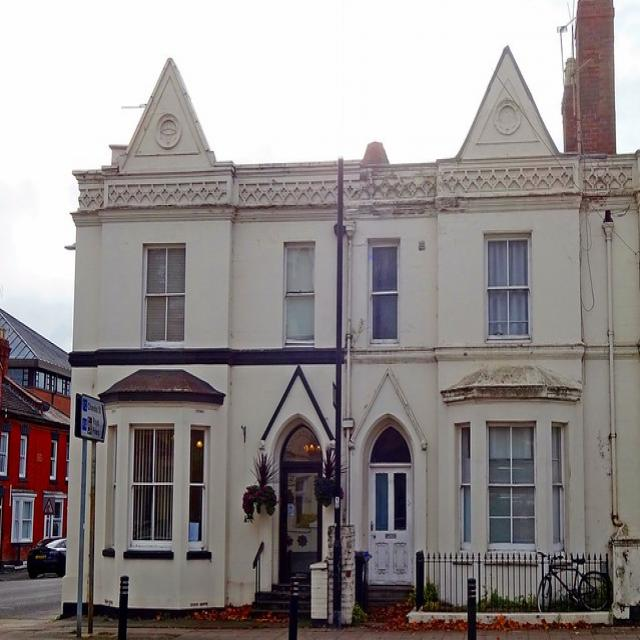Normal_building: (56, 47, 640, 632)
